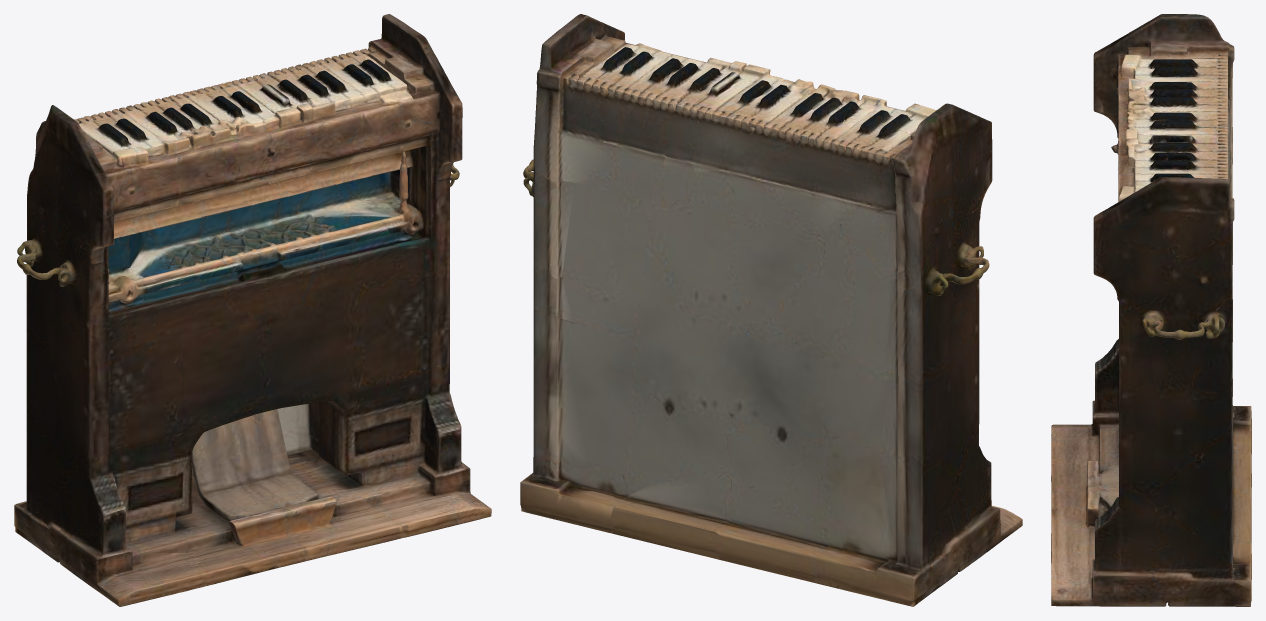
The model's file is piano_antiguo.glb.
The picture shows the model from 3 angles, left to right: view 1: azimuth 30°, elevation 25°; view 2: azimuth 150°, elevation 25°; view 3: azimuth 270°, elevation 25°; orthographic projection. The views are drawn at different scales.
Visible parts, largest first — view 1: Mesh_0; view 2: Mesh_0; view 3: Mesh_0.
Boxes of the visible parts, x1=… form: Mesh_0: x1=14, y1=14, x2=491, y2=606; Mesh_0: x1=520, y1=14, x2=1022, y2=606; Mesh_0: x1=1051, y1=14, x2=1251, y2=606.
Size of the model in its own units: 1.87 by 1.84 by 0.7911.
Materials: 1 (1 with a texture image).
